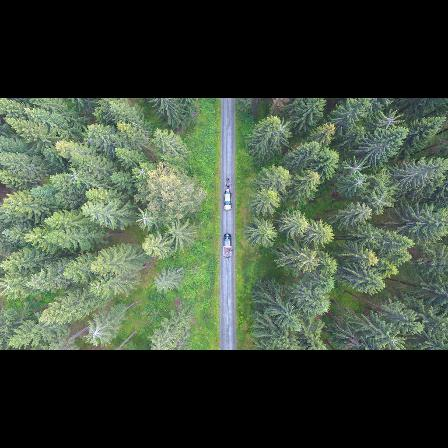Sick: (364, 186, 396, 213), (340, 153, 370, 179), (377, 105, 402, 133), (133, 207, 156, 229), (85, 322, 105, 347), (132, 162, 153, 183), (65, 164, 84, 186), (349, 174, 371, 192)
